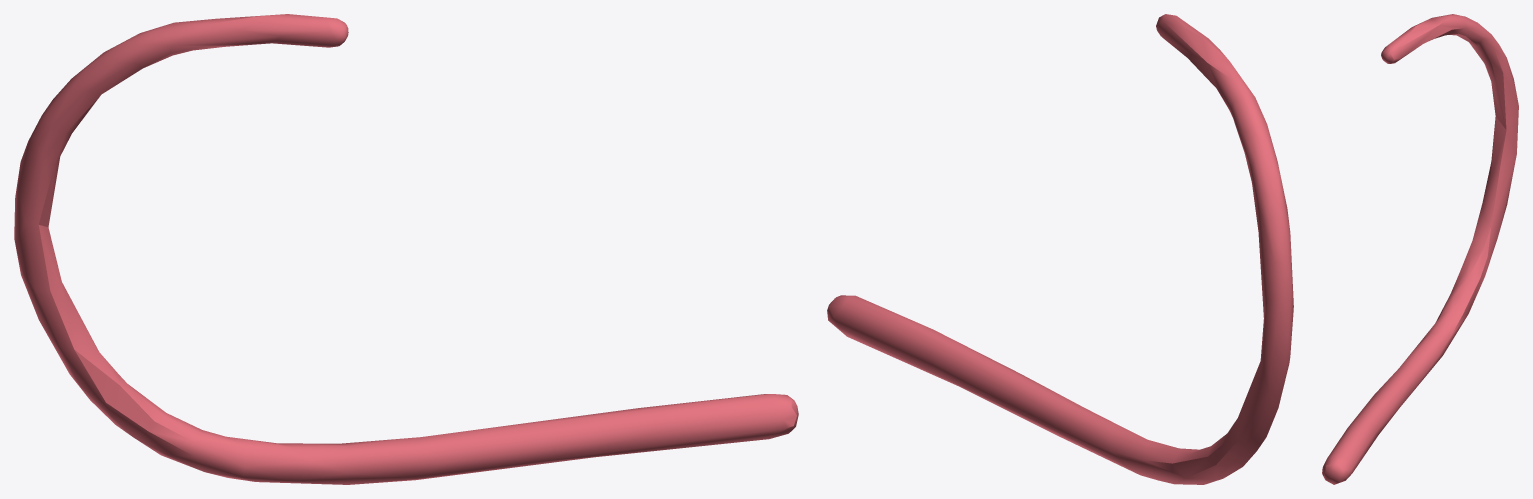
Rendered from fma15408_fj3415.glb.
3 renders of one model, left to right at view 1: azimuth 30°, elevation 25°; view 2: azimuth 150°, elevation 25°; view 3: azimuth 270°, elevation 25°, orthographic. The views are drawn at different scales.
Parts seen in each view (by area): view 1: FMA15408_FJ3415; view 2: FMA15408_FJ3415; view 3: FMA15408_FJ3415.
Boxes of the visible parts, x1,y1,x2,y2 form: FMA15408_FJ3415: [14, 14, 798, 484]; FMA15408_FJ3415: [827, 14, 1293, 484]; FMA15408_FJ3415: [1322, 14, 1518, 484].
Size of the model in its own units: 0.0461 by 0.0336 by 0.0189.
